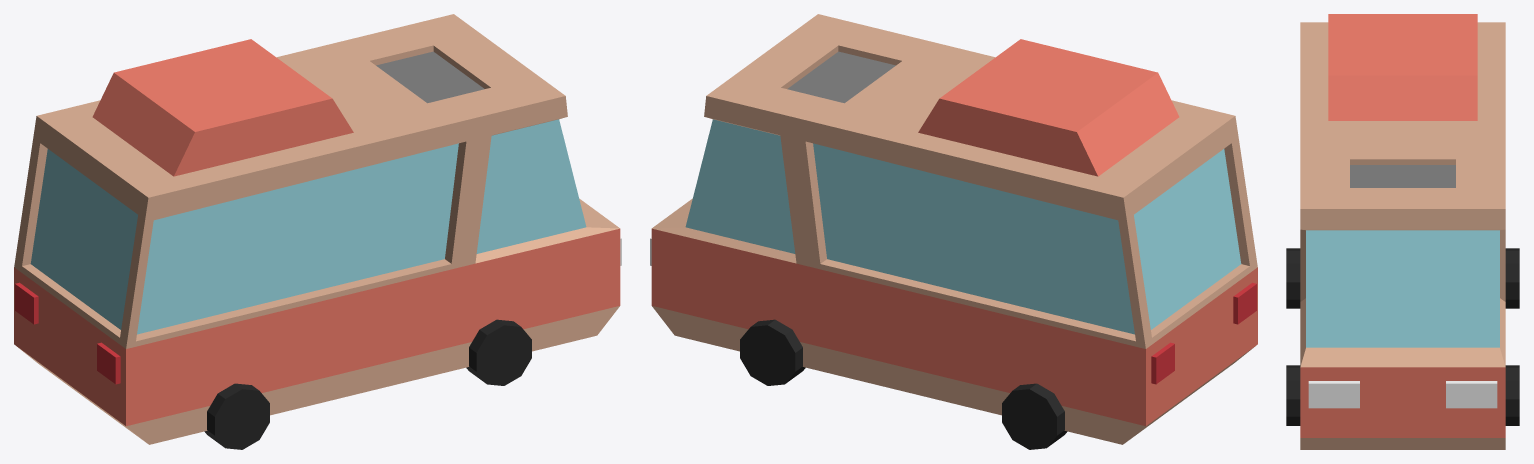
Rendered from Car 3.fbx.
3 views of the same model, side by side, from view 1: azimuth 30°, elevation 25°; view 2: azimuth 150°, elevation 25°; view 3: azimuth 270°, elevation 25° (orthographic). The views are drawn at different scales.
Visible parts, largest first — view 1: Car_3; view 2: Car_3; view 3: Car_3.
Part boxes in pixels (box(x1,y1,x2,y2)): Car_3: box(14, 14, 621, 449); Car_3: box(650, 14, 1257, 449); Car_3: box(1286, 14, 1519, 449).
Bounding box in the file's own units: 521 × 303 × 227.
